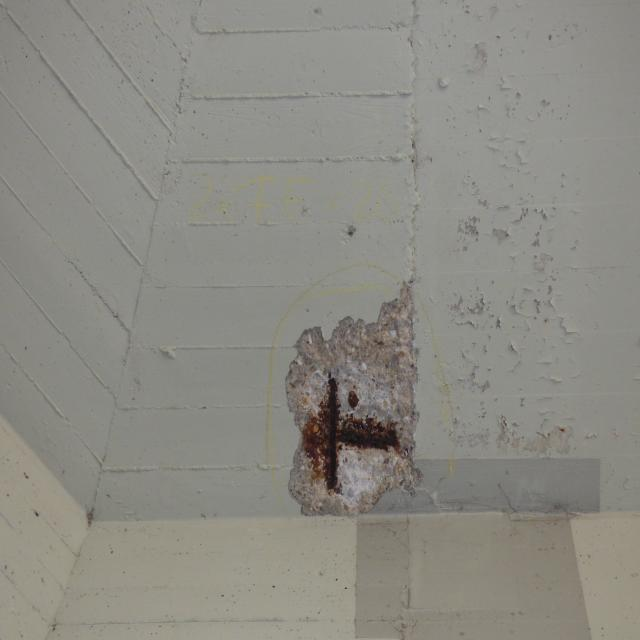corrosion: (291, 366, 420, 501)
